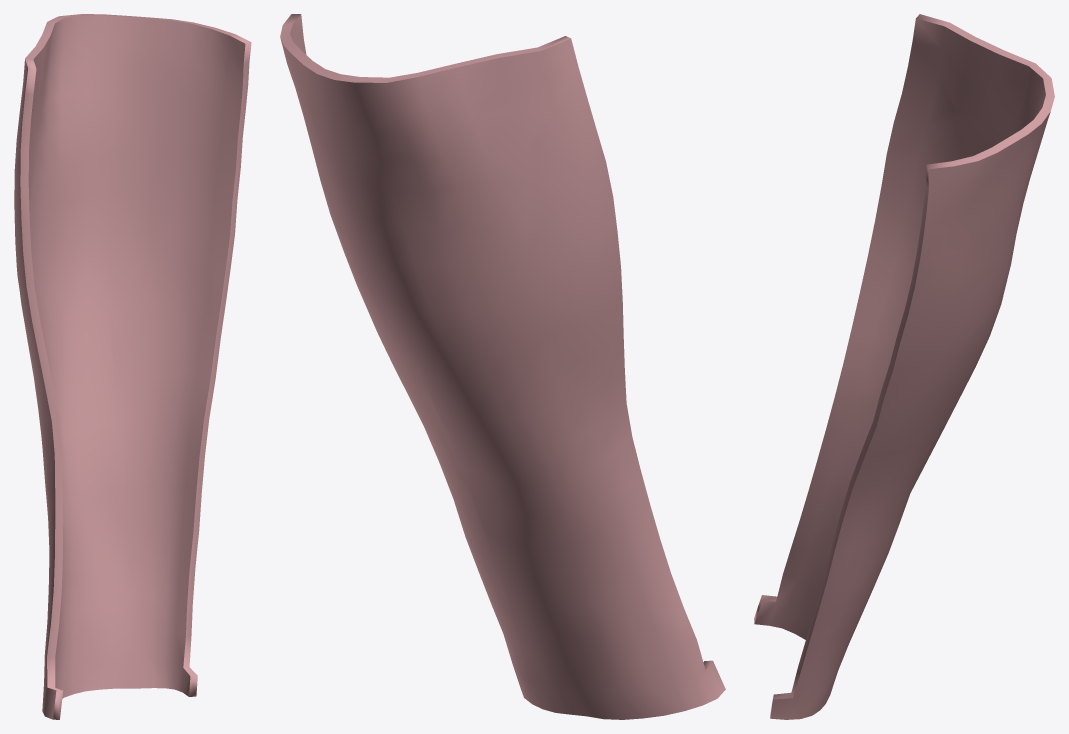
3 renders of one model, left to right at view 1: azimuth 30°, elevation 25°; view 2: azimuth 150°, elevation 25°; view 3: azimuth 270°, elevation 25°, orthographic. The views are drawn at different scales.
Visible parts, largest first — view 1: ZA_b735a06ecc36e7d0; view 2: ZA_b735a06ecc36e7d0; view 3: ZA_b735a06ecc36e7d0.
Part boxes in pixels (x1=…): ZA_b735a06ecc36e7d0: x1=14, y1=14, x2=251, y2=719; ZA_b735a06ecc36e7d0: x1=280, y1=14, x2=725, y2=719; ZA_b735a06ecc36e7d0: x1=754, y1=14, x2=1054, y2=719.
Bounding box in the file's own units: 0.1145 × 0.2364 × 0.0984.
